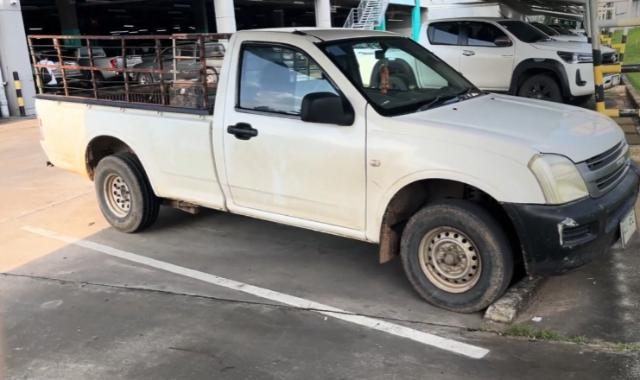pickup-truck: (25, 26, 640, 312)
